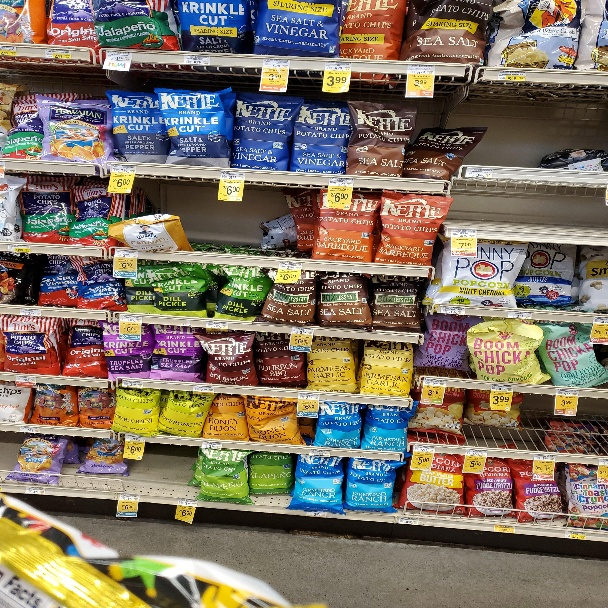All PRICE TAGS: (499, 70, 526, 81), (263, 58, 290, 68), (45, 49, 71, 59), (184, 55, 210, 65), (407, 64, 435, 73), (467, 168, 492, 178), (107, 51, 132, 61), (325, 61, 352, 70), (442, 306, 466, 316), (452, 229, 477, 238), (491, 383, 514, 392), (509, 311, 532, 320), (328, 177, 353, 185), (494, 524, 516, 533), (466, 448, 488, 457), (413, 444, 435, 453), (424, 377, 446, 386), (111, 165, 135, 173), (220, 171, 244, 179), (8, 244, 31, 252), (19, 308, 42, 316), (205, 320, 228, 328), (557, 388, 579, 396), (114, 249, 136, 257), (16, 375, 37, 383), (564, 531, 585, 539), (534, 453, 555, 461), (278, 261, 302, 268), (120, 493, 140, 501), (194, 384, 214, 392), (399, 516, 419, 524), (201, 440, 223, 447), (120, 315, 142, 322), (178, 498, 197, 506), (123, 379, 141, 387), (26, 486, 44, 494), (310, 449, 330, 456), (298, 392, 318, 399), (19, 426, 39, 433), (0, 47, 17, 55), (292, 328, 314, 334), (308, 511, 327, 517), (593, 317, 608, 324), (152, 434, 165, 441), (598, 459, 608, 466)
